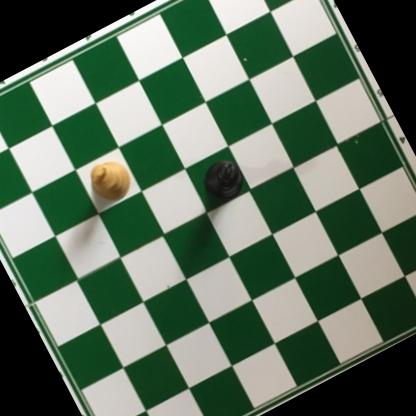black-king: (197, 153, 250, 207)
white-king: (82, 153, 137, 208)
